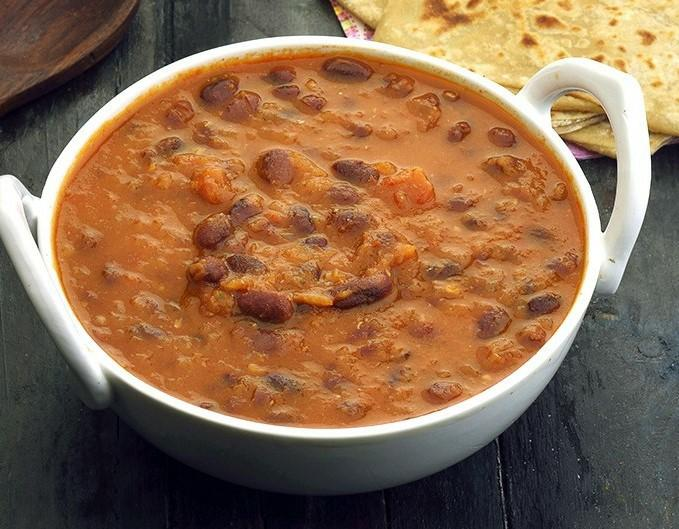RajmaCurry: (58, 60, 581, 430)
